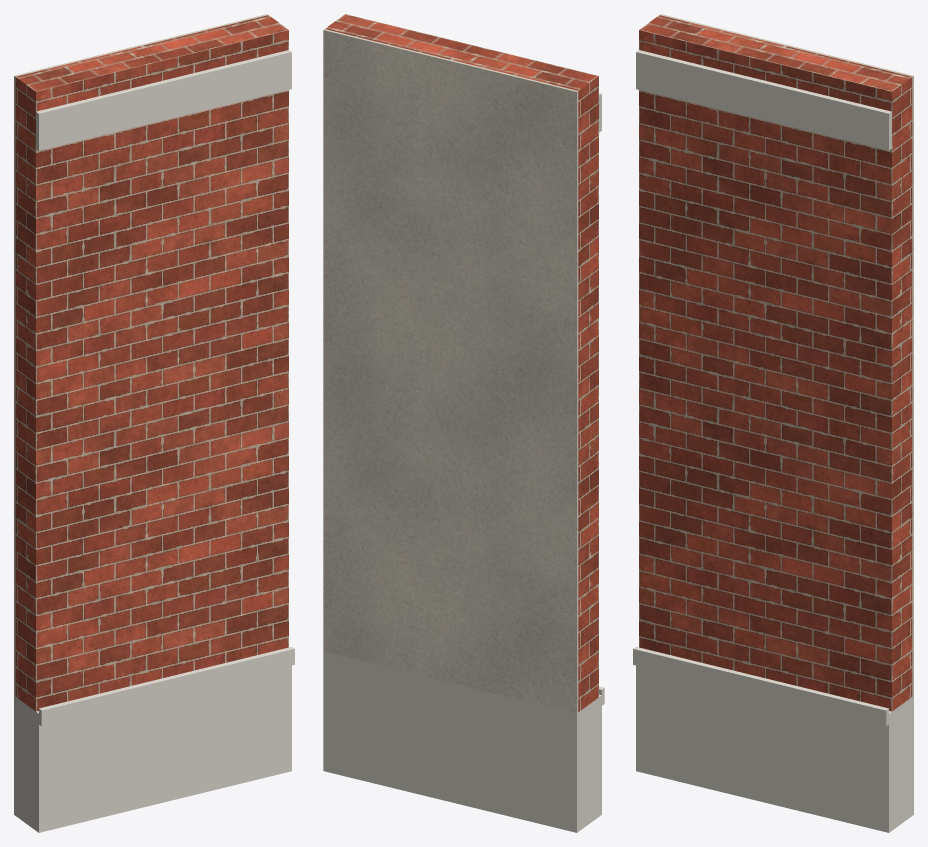
Rendered from wall_plain.glb.
3 views of the same model, side by side, from view 1: azimuth 30°, elevation 25°; view 2: azimuth 150°, elevation 25°; view 3: azimuth 330°, elevation 25° (orthographic).
Visible parts, largest first — view 1: wall_plain_brick, wall_plain_lime, wall_plain_plaster; view 2: wall_plain_plaster, wall_plain_lime, wall_plain_brick; view 3: wall_plain_brick, wall_plain_lime, wall_plain_plaster.
Boxes of the visible parts, left/top/right/bottom form: wall_plain_brick: left=15, top=15, right=288, bottom=711; wall_plain_lime: left=14, top=50, right=294, bottom=832; wall_plain_plaster: left=14, top=14, right=267, bottom=696; wall_plain_plaster: left=323, top=29, right=578, bottom=713; wall_plain_lime: left=323, top=93, right=604, bottom=832; wall_plain_brick: left=325, top=14, right=598, bottom=711; wall_plain_brick: left=639, top=15, right=912, bottom=711; wall_plain_lime: left=633, top=50, right=913, bottom=832; wall_plain_plaster: left=660, top=14, right=913, bottom=696.
Bounding box in the file's own units: 2 × 5.58 × 0.38.
Materials: 3 (2 with a texture image).
